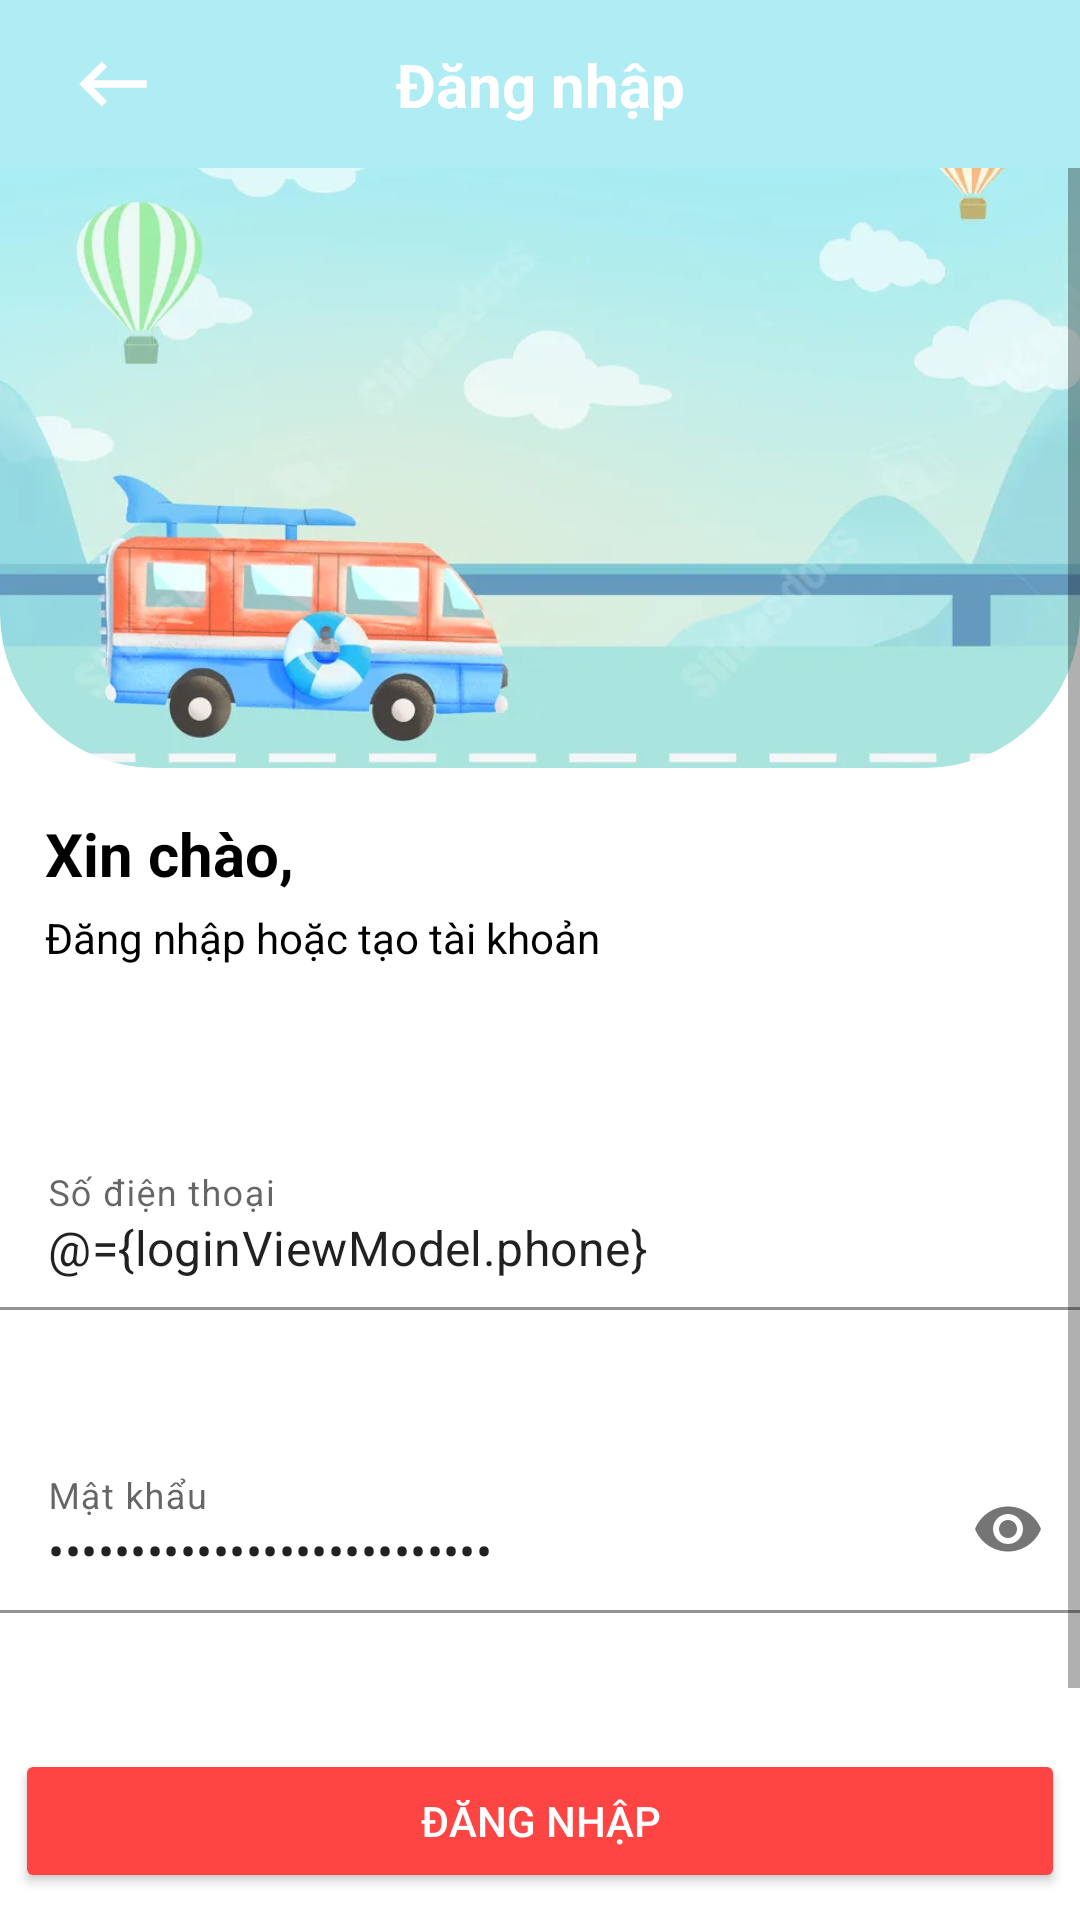

Screen size 1080px×1920px. Icon name, then its box in pixels as (x1, y1, x2, y2):
Back: (80, 62, 147, 106)
